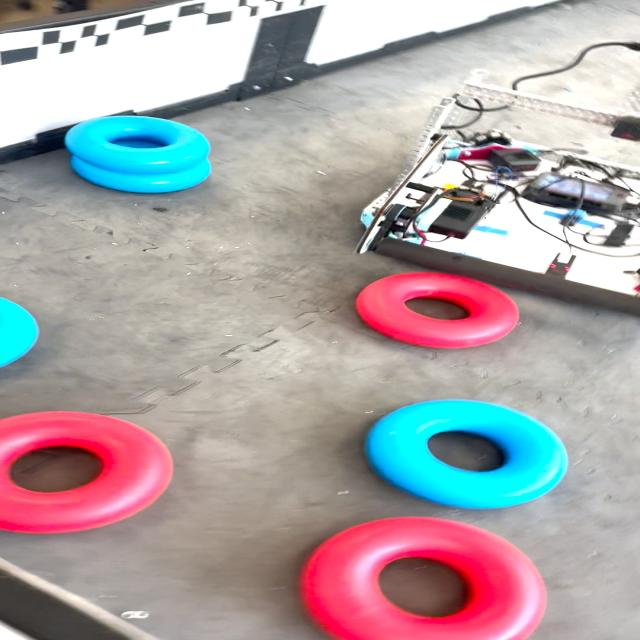Blue-Ring: (367, 400, 569, 509), (64, 116, 211, 174), (71, 156, 211, 192)
Red-Ring: (300, 518, 547, 640), (0, 411, 173, 534), (356, 272, 518, 349)
